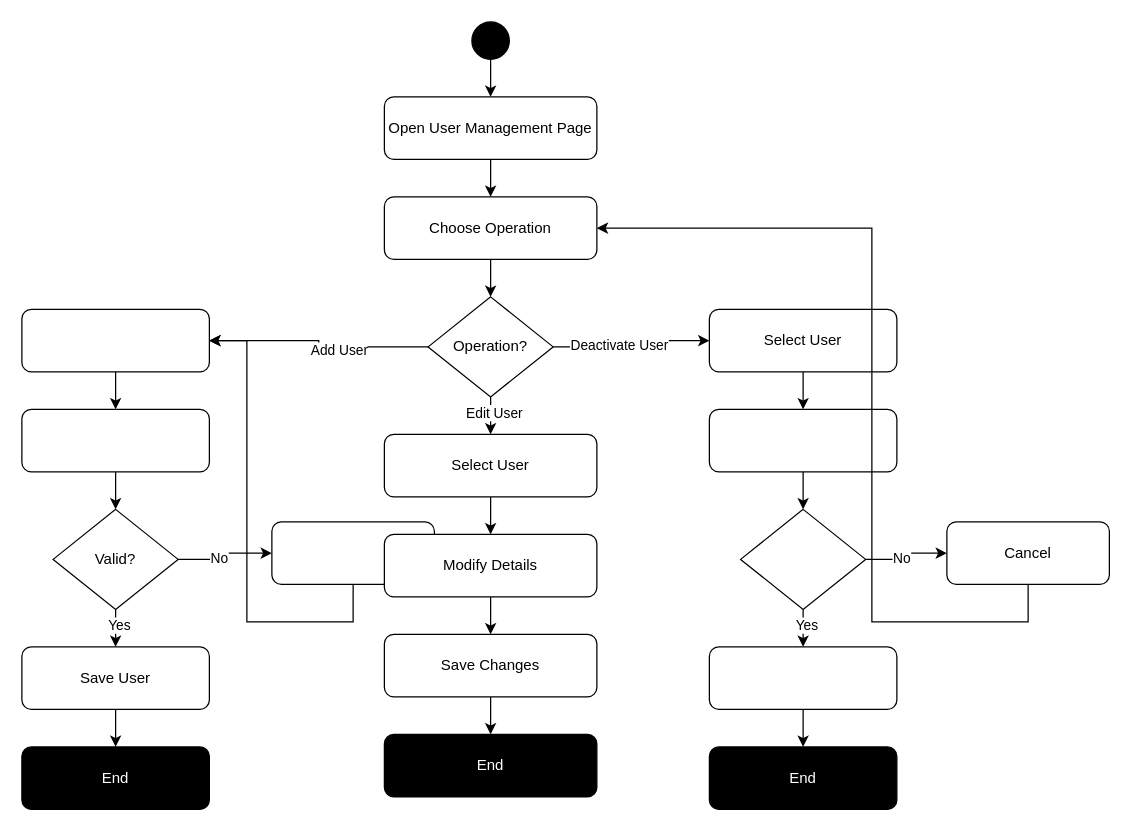
The diagram is 1131 pixels wide and 831 high, and some of its shapes have lost their labels. The box of each missing label's shape, as (x1, y1, x2, y2) in pixels:
Click "Deactivate": (708, 408, 897, 472)
Confirm?: (739, 508, 866, 609)
Enter User Details: (21, 308, 209, 372)
Set Status = Inactive: (708, 646, 897, 709)
Show Error Message: (271, 521, 434, 584)
Validate Input: (21, 408, 209, 472)
